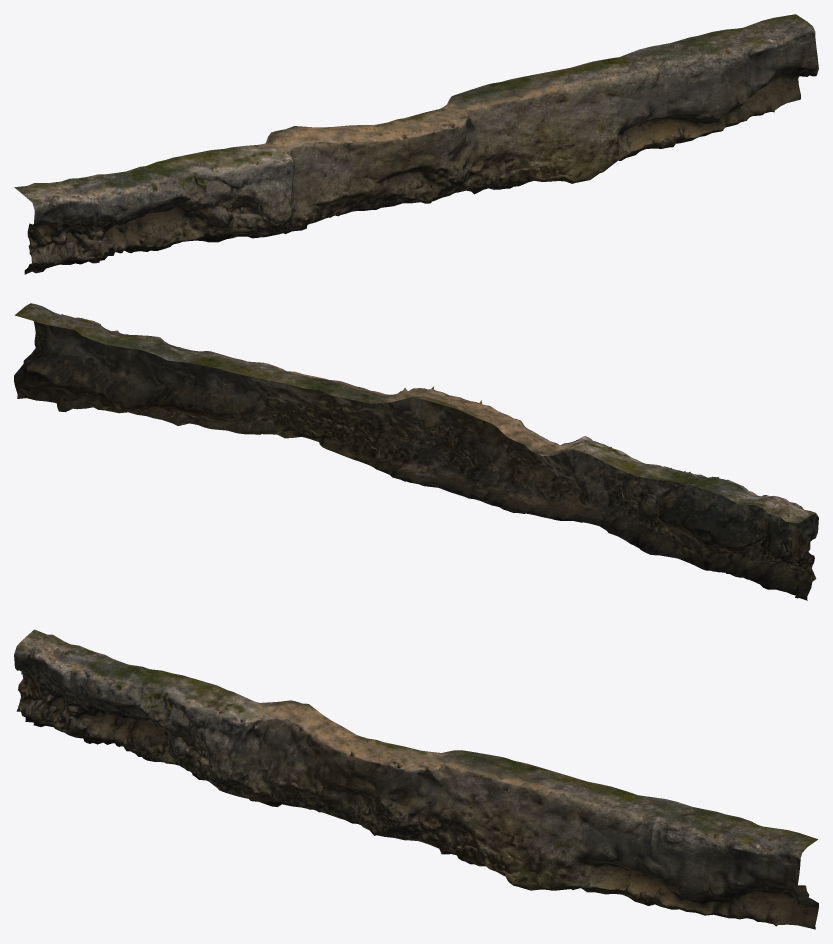
Rendered from vach-bien.glb.
3 renders of one model, top to bottom at view 1: azimuth 30°, elevation 25°; view 2: azimuth 150°, elevation 25°; view 3: azimuth 330°, elevation 25°, orthographic. The views are drawn at different scales.
Visible parts, largest first — view 1: coastal_cliff_01; view 2: coastal_cliff_01; view 3: coastal_cliff_01.
Boxes of the visible parts, x1,y1,x2,y2 form: coastal_cliff_01: (14, 14, 818, 274); coastal_cliff_01: (14, 303, 818, 600); coastal_cliff_01: (14, 629, 818, 929).
Size of the model in its own units: 0.9996 by 0.1115 by 0.1192.
Materials: 1 (1 with a texture image).
